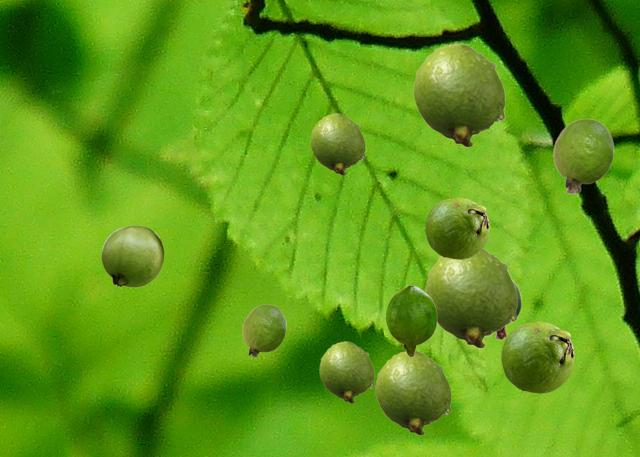guava: (413, 43, 504, 146), (425, 248, 516, 347), (375, 350, 450, 434), (501, 321, 573, 392), (553, 118, 613, 193), (425, 197, 488, 258), (101, 225, 163, 286), (385, 285, 436, 356), (319, 341, 373, 402), (310, 113, 364, 174), (242, 304, 285, 356), (490, 281, 521, 339)
